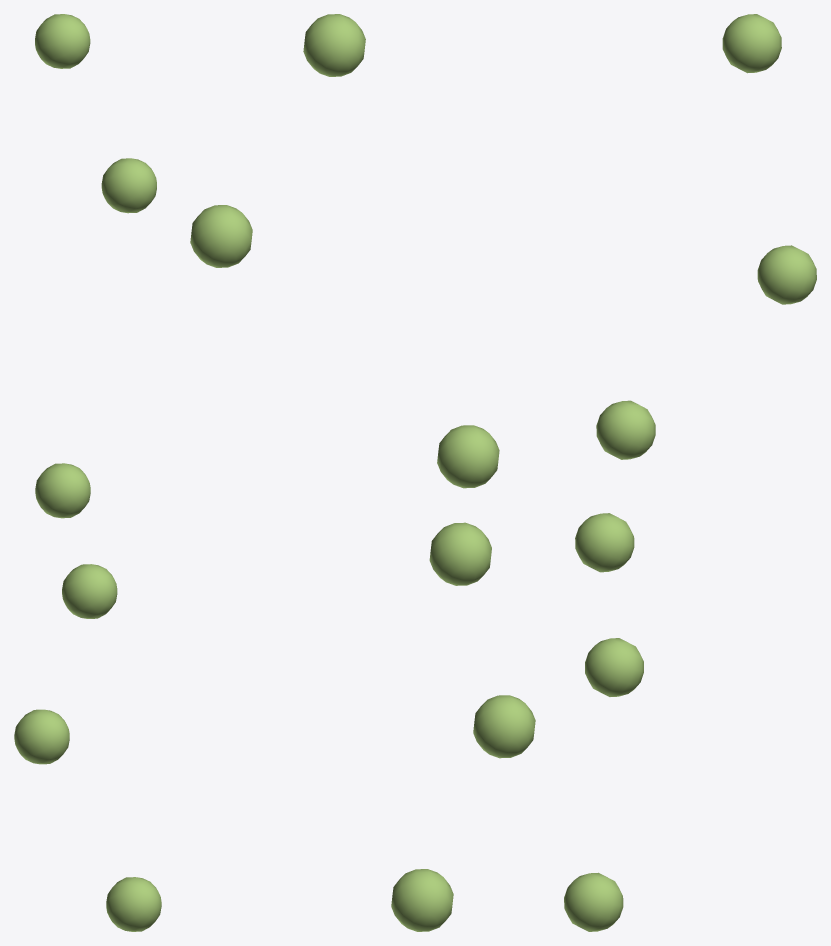
File: anterior-inferior-jugular-nodes-l.glb
3 views of the same model, side by side, from view 1: azimuth 30°, elevation 25°; view 2: azimuth 150°, elevation 25°; view 3: azimuth 270°, elevation 25° (orthographic). The views are drawn at different scales.
Parts seen in each view (by area): view 1: Anterior inferior jugular nodes.l; view 2: Anterior inferior jugular nodes.l; view 3: Anterior inferior jugular nodes.l.
Part boxes in pixels (x1,y1,x2,y2): Anterior inferior jugular nodes.l: [14, 14, 161, 931]; Anterior inferior jugular nodes.l: [190, 14, 535, 931]; Anterior inferior jugular nodes.l: [564, 14, 816, 931].
Bounding box in the file's own units: 0.0115 × 0.0436 × 0.0109.
